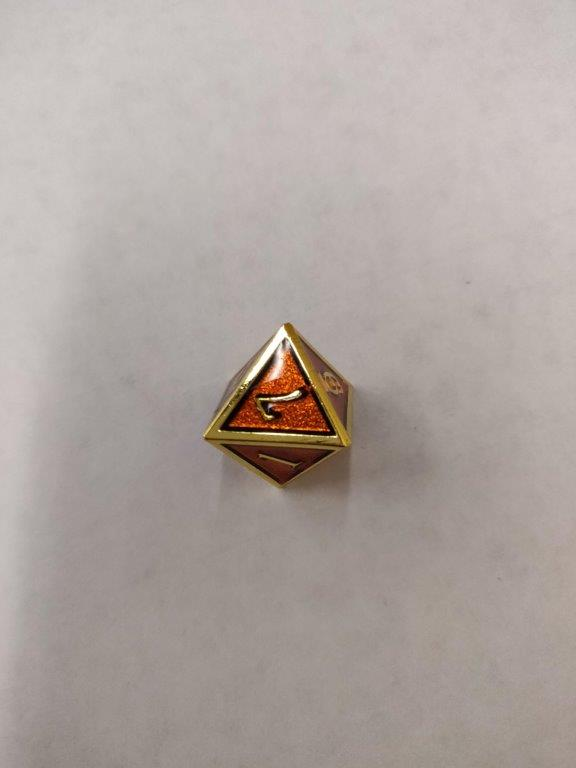d8-7: (201, 318, 356, 496)
